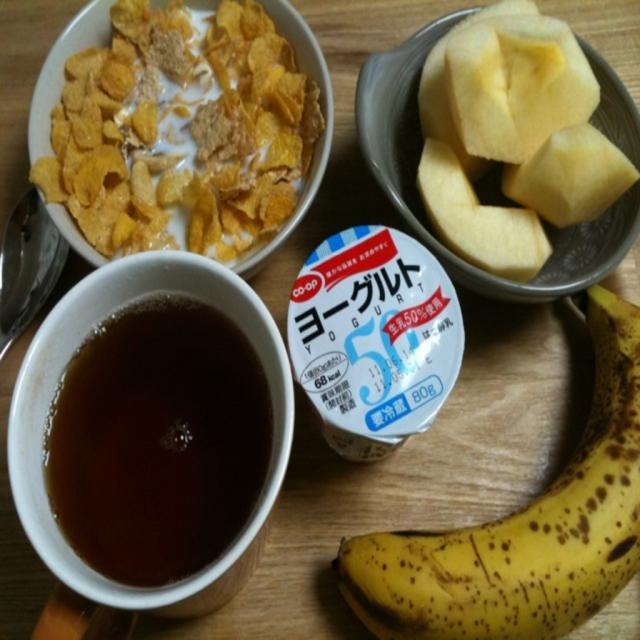Tea: (44, 297, 271, 588)
